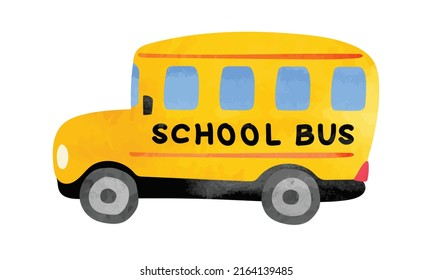car: (44, 27, 381, 227)
